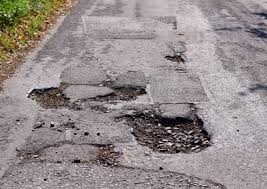pothole: (117, 102, 227, 162), (25, 136, 132, 180), (25, 80, 89, 116), (87, 78, 151, 112), (155, 42, 196, 71)
